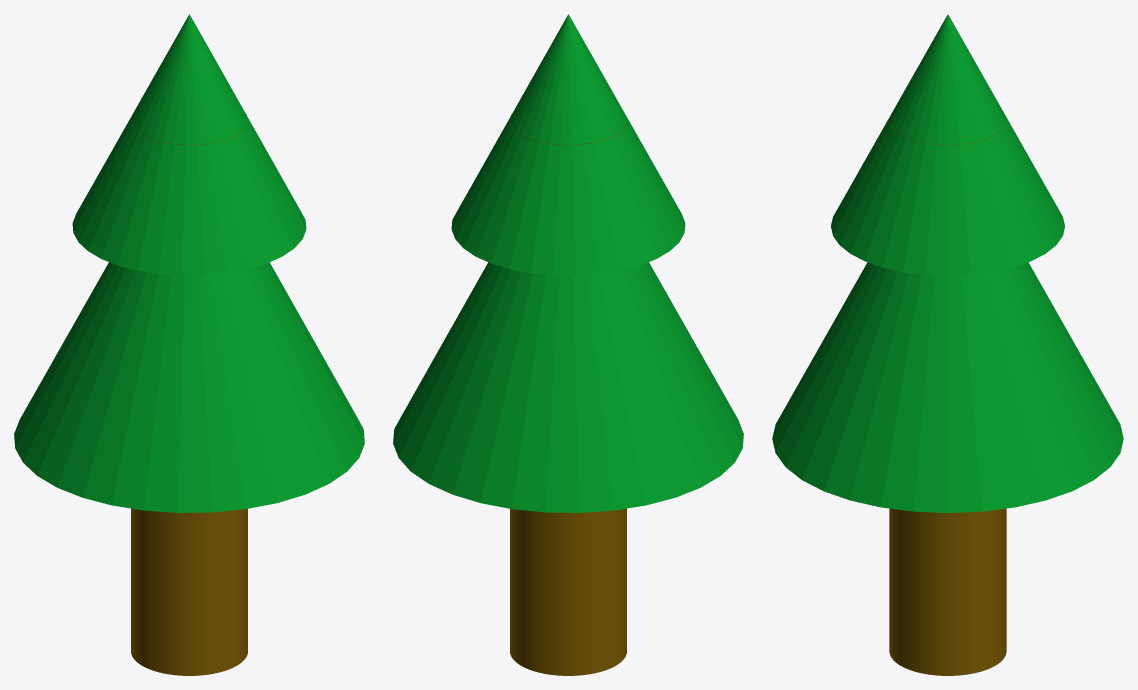
The model's file is tree.fbx.
3 renders of one model, left to right at view 1: azimuth 30°, elevation 25°; view 2: azimuth 150°, elevation 25°; view 3: azimuth 270°, elevation 25°, orthographic.
Parts seen in each view (by area): view 1: 锥体, 锥体.001, 柱体; view 2: 锥体, 锥体.001, 柱体; view 3: 锥体, 锥体.001, 柱体.
Boxes of the visible parts, x1,y1,x2,y2 form: 锥体: [14, 262, 364, 512]; 锥体.001: [72, 14, 306, 275]; 柱体: [131, 114, 247, 675]; 锥体: [393, 262, 743, 512]; 锥体.001: [451, 14, 685, 275]; 柱体: [510, 114, 626, 675]; 锥体: [772, 262, 1123, 512]; 锥体.001: [831, 14, 1064, 275]; 柱体: [889, 116, 1006, 675].
Bounding box in the file's own units: 600 × 1200 × 600.
